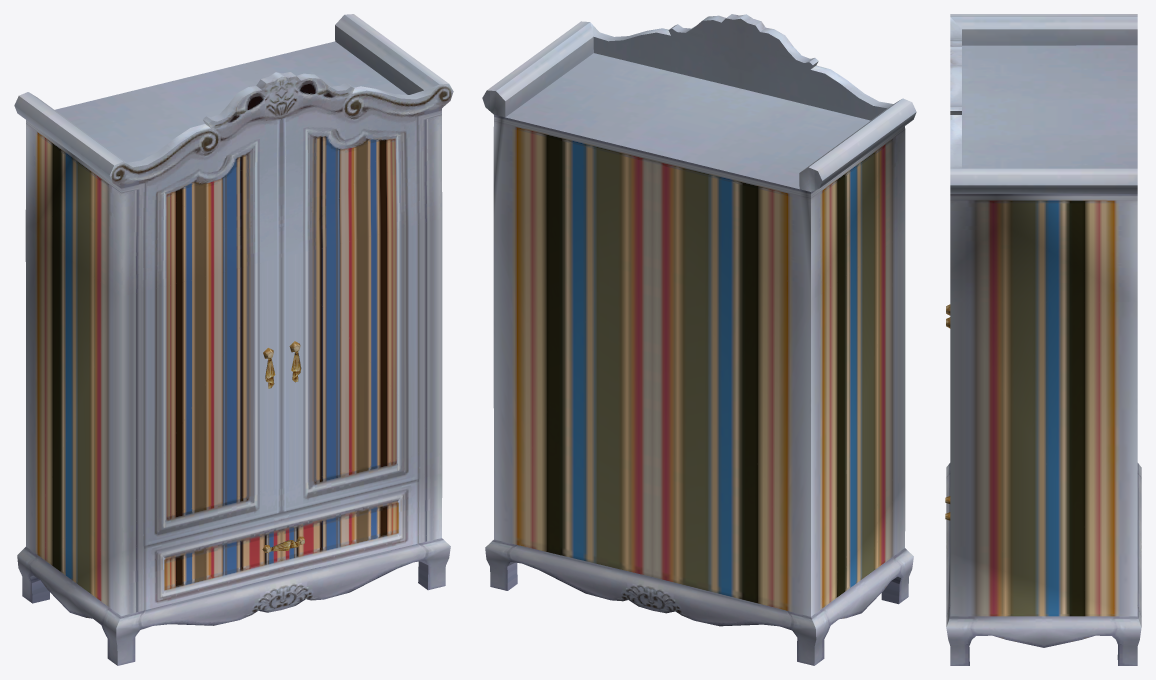
The model's file is furni_0200628.FBX.
The picture shows the model from 3 angles, left to right: view 1: azimuth 30°, elevation 25°; view 2: azimuth 150°, elevation 25°; view 3: azimuth 270°, elevation 25°; orthographic projection.
Visible parts, largest first — view 1: furni_0200628; view 2: furni_0200628; view 3: furni_0200628.
Part boxes in pixels (x1,y1,x2,y2): furni_0200628: (14,14,453,665); furni_0200628: (482,14,916,665); furni_0200628: (945,14,1141,665).
Bounding box in the file's own units: 166 × 253 × 83.19.
1 material, 1 textured.
